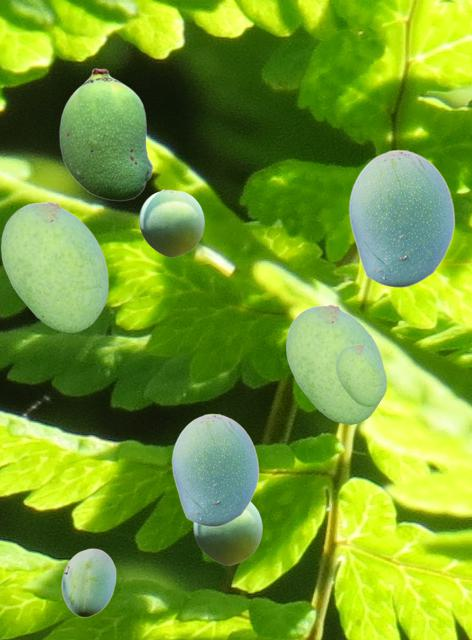green_mango: (348, 149, 454, 287), (1, 201, 107, 331), (59, 68, 152, 200), (286, 304, 383, 423), (171, 413, 258, 526), (139, 189, 203, 256), (193, 502, 261, 564), (61, 548, 115, 616), (336, 344, 385, 405)
